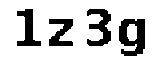1: (15, 7, 44, 51)
3: (84, 4, 114, 49)
g: (116, 16, 149, 60)
z: (45, 16, 80, 51)
